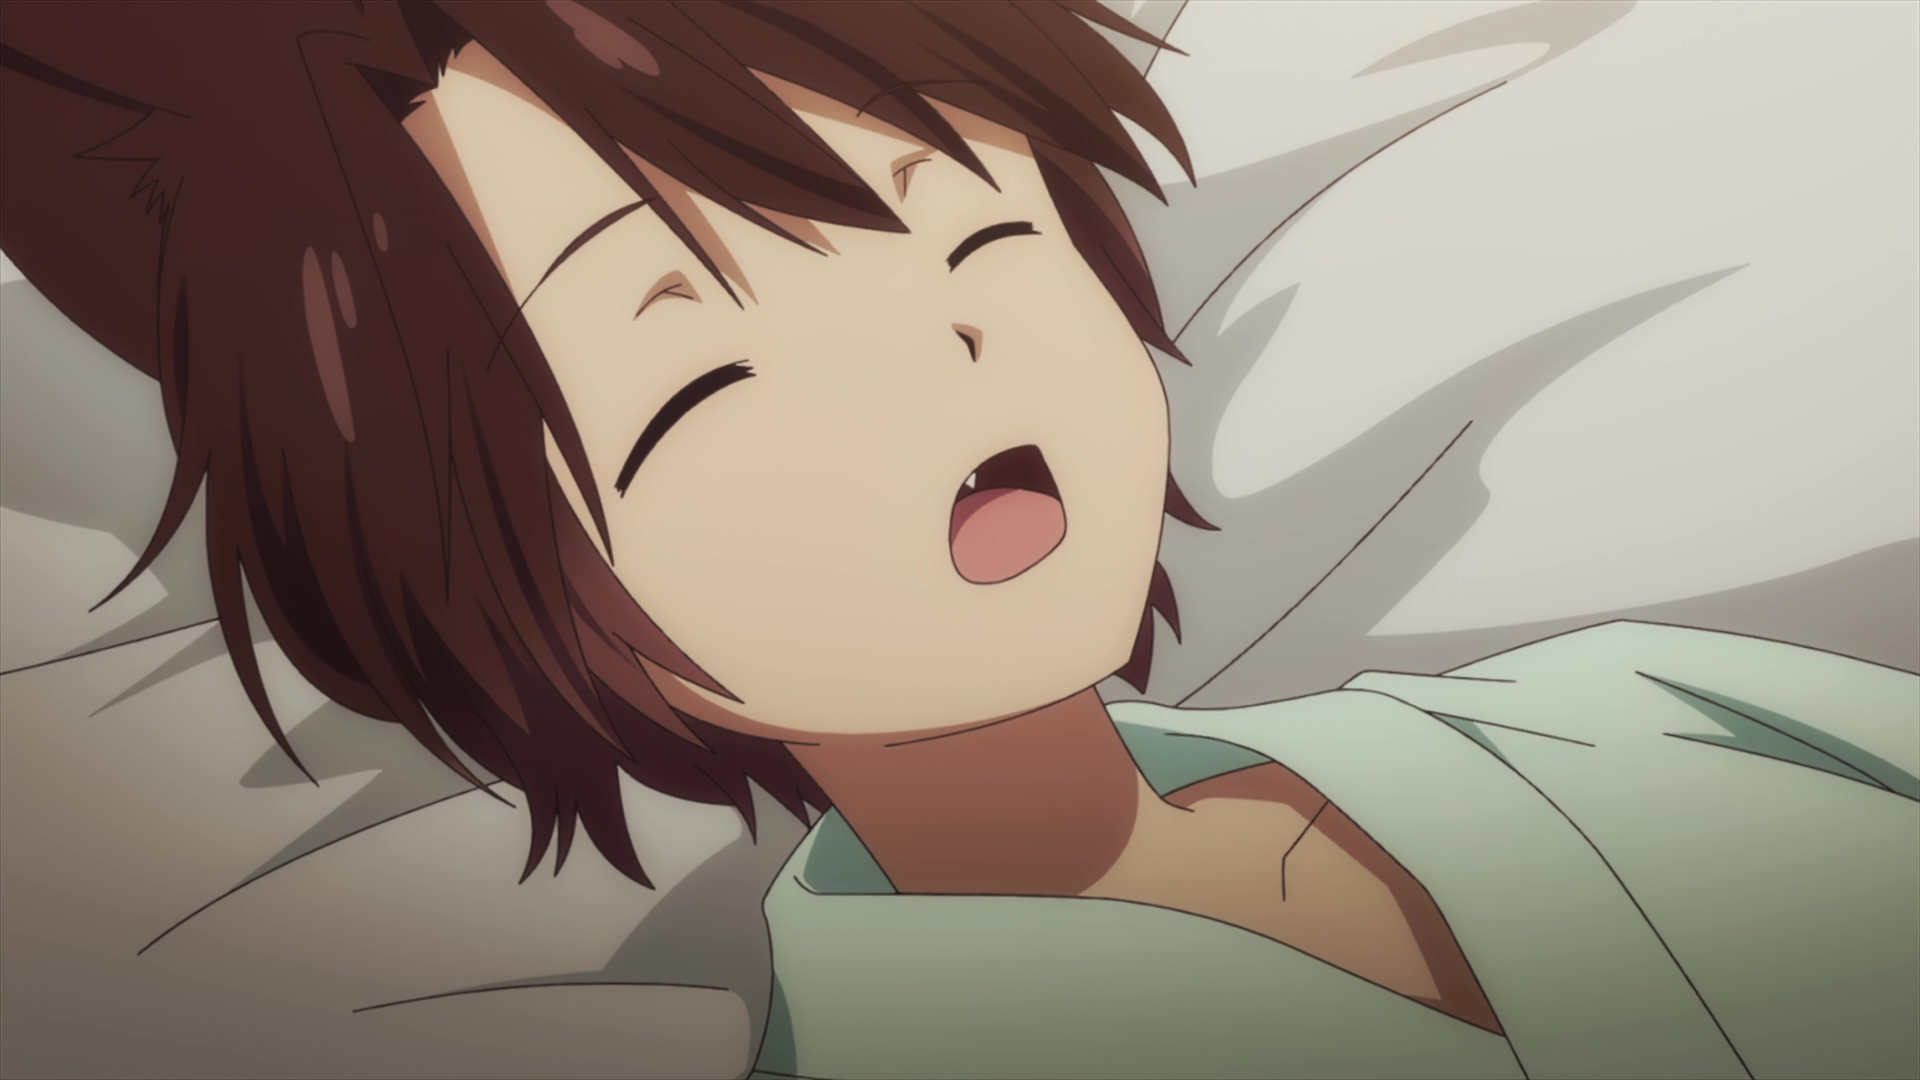枣: (1, 1, 1920, 1080)
